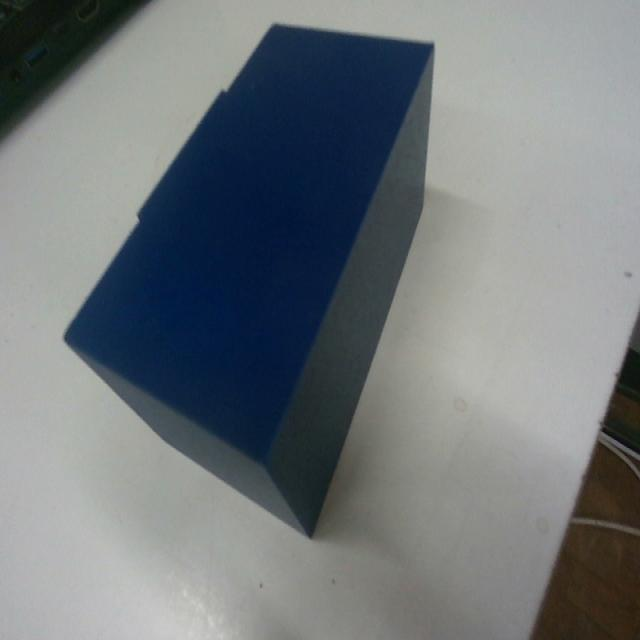Blue Cuboid: (62, 19, 436, 537)
